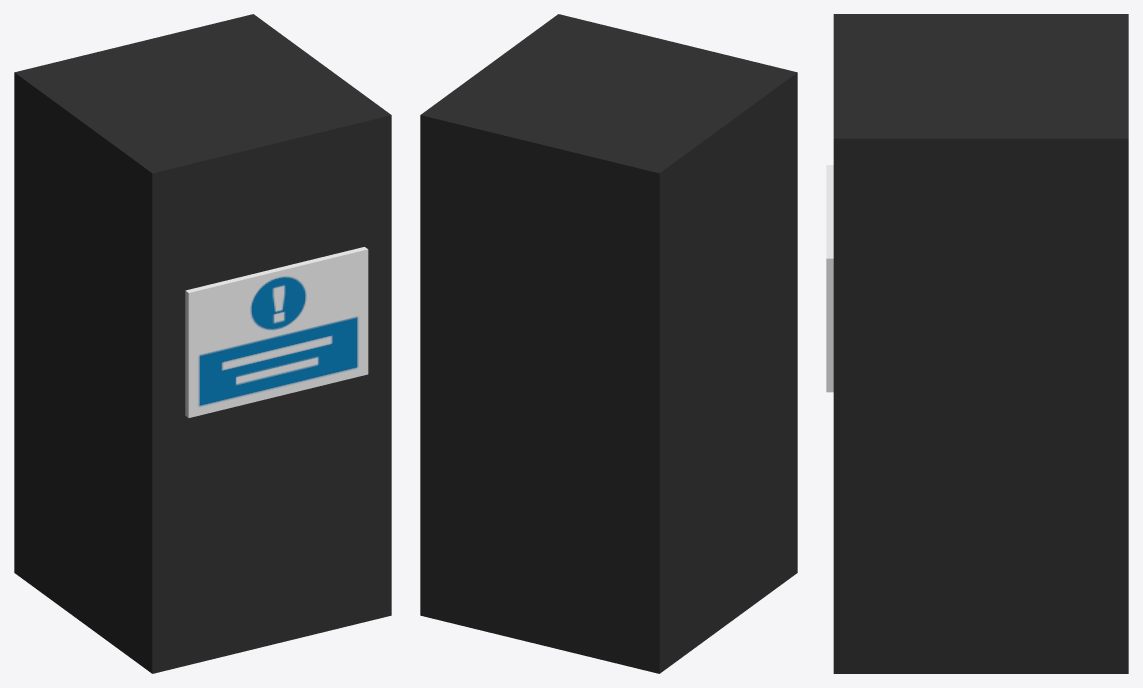
File: wall_alt1.dae
3 views of the same model, side by side, from view 1: azimuth 30°, elevation 25°; view 2: azimuth 150°, elevation 25°; view 3: azimuth 270°, elevation 25° (orthographic). The views are drawn at different scales.
Parts seen in each view (by area): view 1: Box02, Box01, Regroup01; view 2: Box02; view 3: Box02, Regroup01.
Boxes of the visible parts, x1,y1,x2,y2 form: Box02: (14, 14, 391, 673); Box01: (188, 249, 368, 417); Regroup01: (185, 247, 367, 417); Box02: (420, 14, 797, 673); Box02: (833, 14, 1128, 673); Regroup01: (826, 165, 833, 392).
Size of the model in its own units: 4 by 8 by 4.1.
